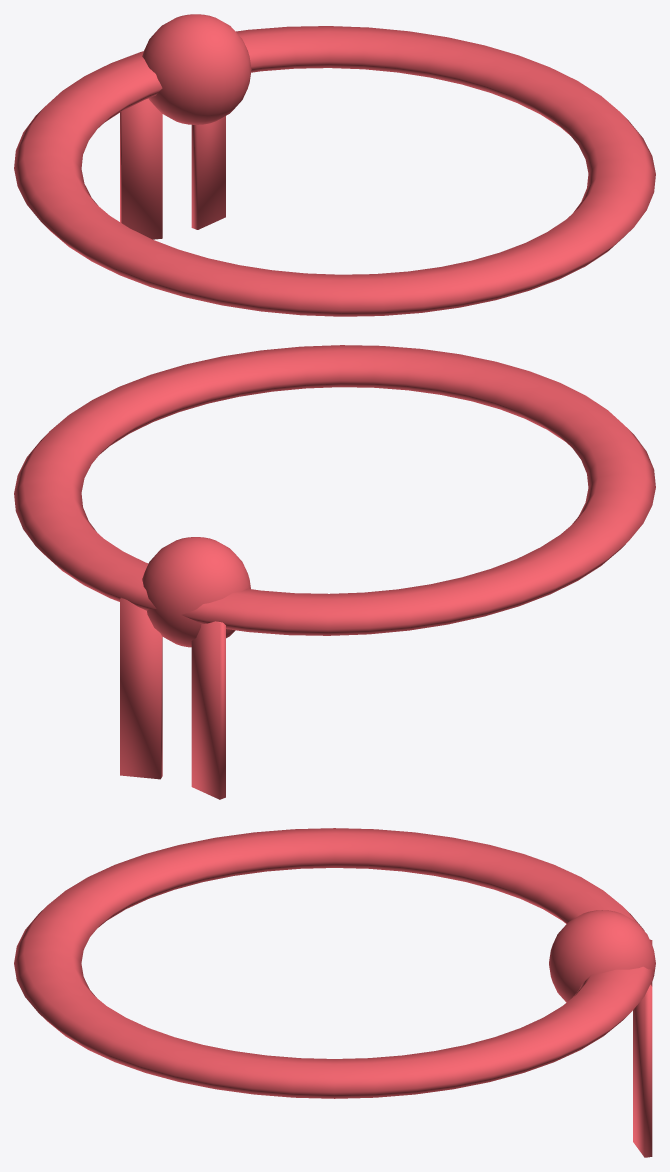
The model's file is bandana.glb.
The picture shows the model from 3 angles, top to bottom: view 1: azimuth 30°, elevation 25°; view 2: azimuth 150°, elevation 25°; view 3: azimuth 270°, elevation 25°; orthographic projection. The views are drawn at different scales.
Parts seen in each view (by area): view 1: bandana; view 2: bandana; view 3: bandana.
Boxes of the visible parts, left/top/right/bottom form: bandana: left=14, top=14, right=655, bottom=316; bandana: left=14, top=345, right=655, bottom=799; bandana: left=14, top=828, right=655, bottom=1157.
Size of the model in its own units: 0.228 by 0.09 by 0.2397.
